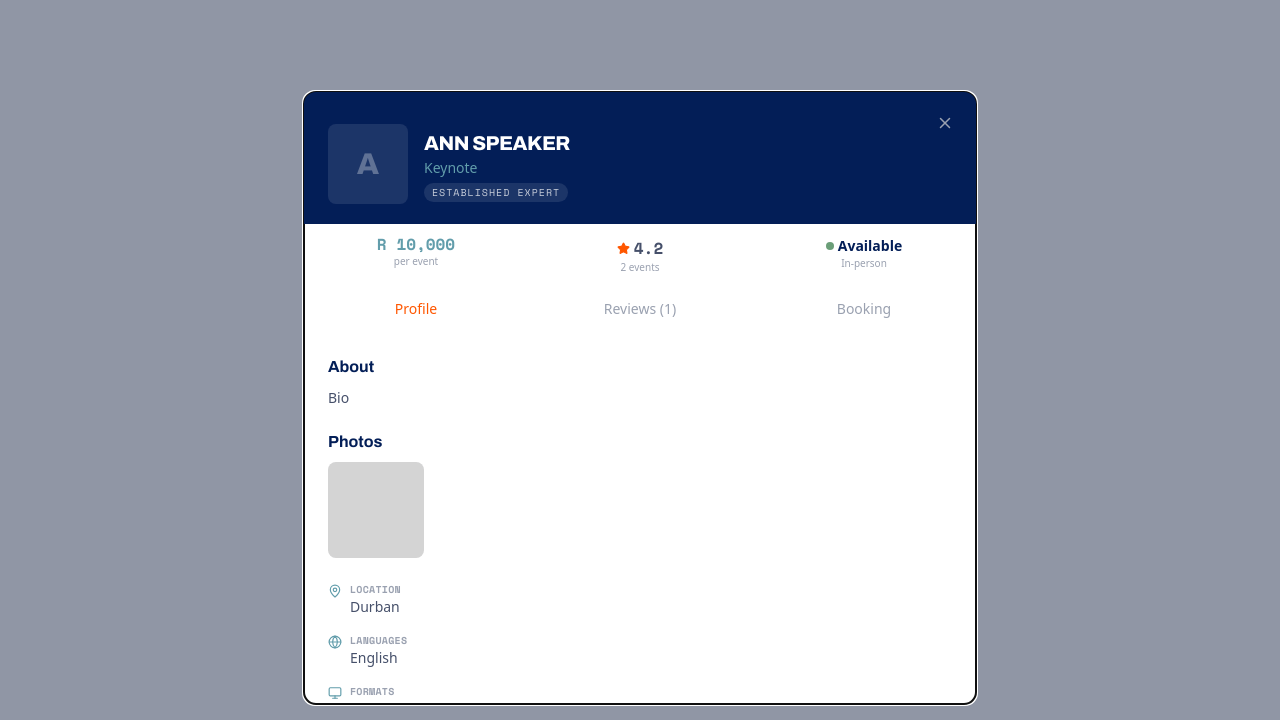
Test case: SpeakerModal › exposes tabs with tablist/tab/tabpanel semantics
The image size is (1280, 720).
Click the tab "Reviews (1)": (640, 309) [528, 287, 752, 331]
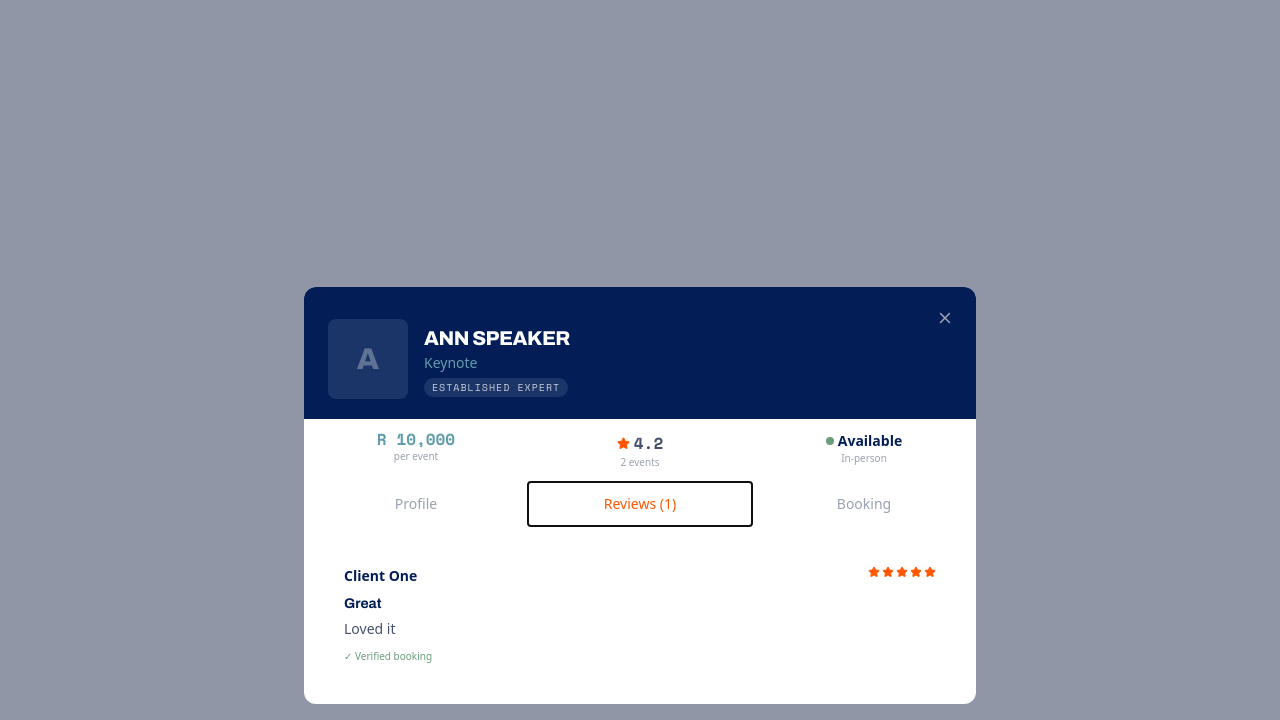
Now the panel shows "Client One", box [344, 566, 417, 585]
